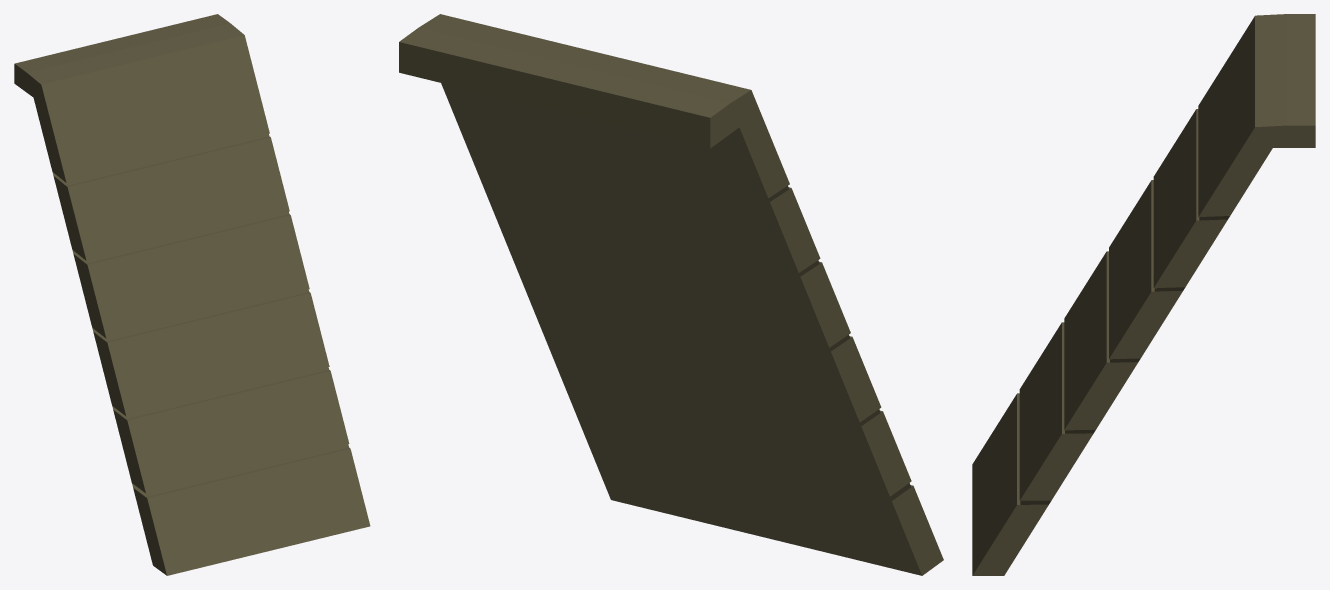
File: Roof01_house5.obj
The picture shows the model from 3 angles, left to right: view 1: azimuth 30°, elevation 25°; view 2: azimuth 150°, elevation 25°; view 3: azimuth 270°, elevation 25°; orthographic projection. The views are drawn at different scales.
Parts seen in each view (by area): view 1: Roof01_house05_Cube.001; view 2: Roof01_house05_Cube.001; view 3: Roof01_house05_Cube.001.
Boxes of the visible parts, box(x1,y1,x2,y2) form: Roof01_house05_Cube.001: box(14, 14, 370, 575); Roof01_house05_Cube.001: box(399, 14, 943, 575); Roof01_house05_Cube.001: box(972, 14, 1315, 575).
Bounding box in the file's own units: 2.82 × 5.31 × 3.67.
